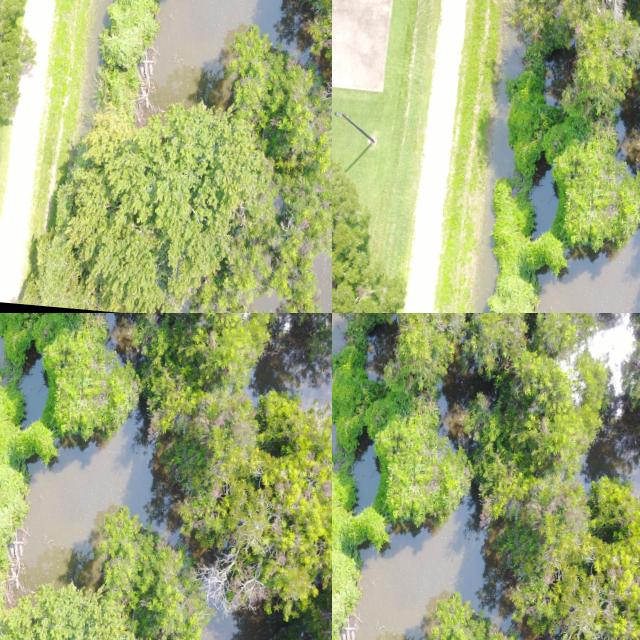fire: (354, 497, 488, 640), (582, 424, 640, 491), (589, 313, 636, 394), (352, 443, 380, 514)
